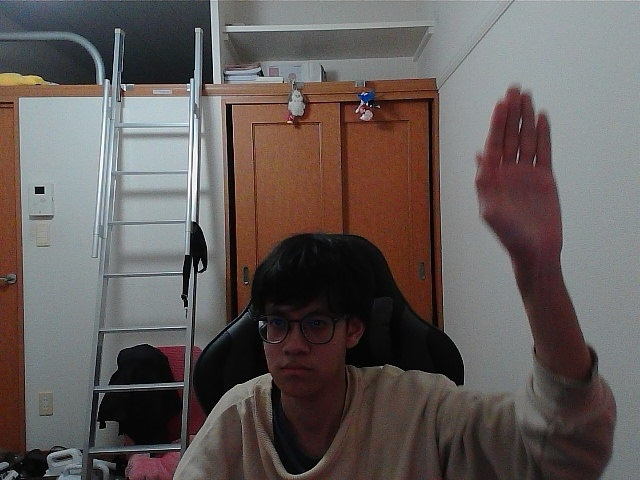open_palm: (482, 95, 545, 242)
